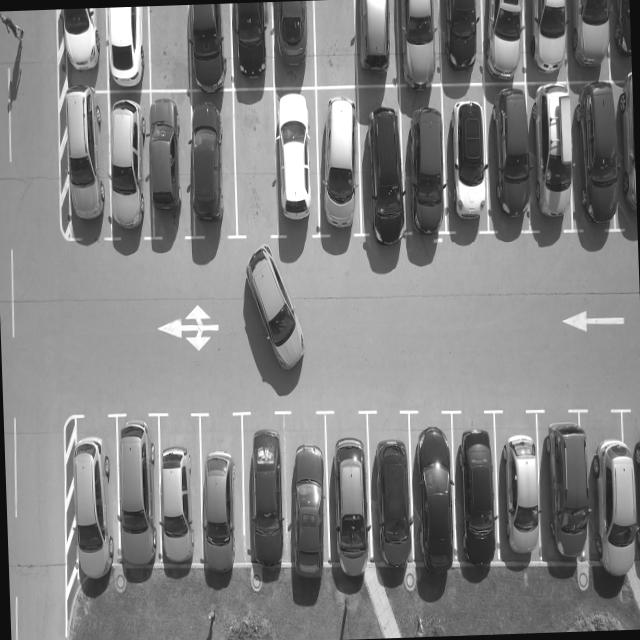car: (536, 408, 594, 570), (566, 82, 628, 232), (584, 423, 640, 584), (110, 408, 162, 580), (406, 407, 460, 572), (322, 406, 374, 577), (195, 408, 249, 572), (482, 83, 540, 231), (101, 77, 152, 244), (57, 88, 112, 239), (185, 88, 238, 244), (312, 85, 365, 241), (492, 408, 544, 566), (142, 88, 193, 246), (400, 95, 452, 238), (364, 404, 414, 552), (273, 86, 321, 240), (242, 406, 288, 560), (454, 404, 497, 568), (355, 84, 403, 228), (74, 412, 115, 578), (534, 81, 574, 245), (442, 80, 483, 236), (282, 409, 324, 556), (162, 410, 200, 570), (390, 0, 441, 91), (434, 0, 488, 84), (520, 0, 574, 81), (56, 7, 108, 91), (102, 6, 152, 91), (186, 3, 234, 88), (270, 0, 317, 86), (228, 2, 275, 88), (353, 0, 400, 85), (486, 0, 525, 89), (569, 0, 606, 81), (604, 0, 630, 75)
free: (229, 86, 280, 239), (310, 0, 361, 87), (144, 5, 191, 90)
